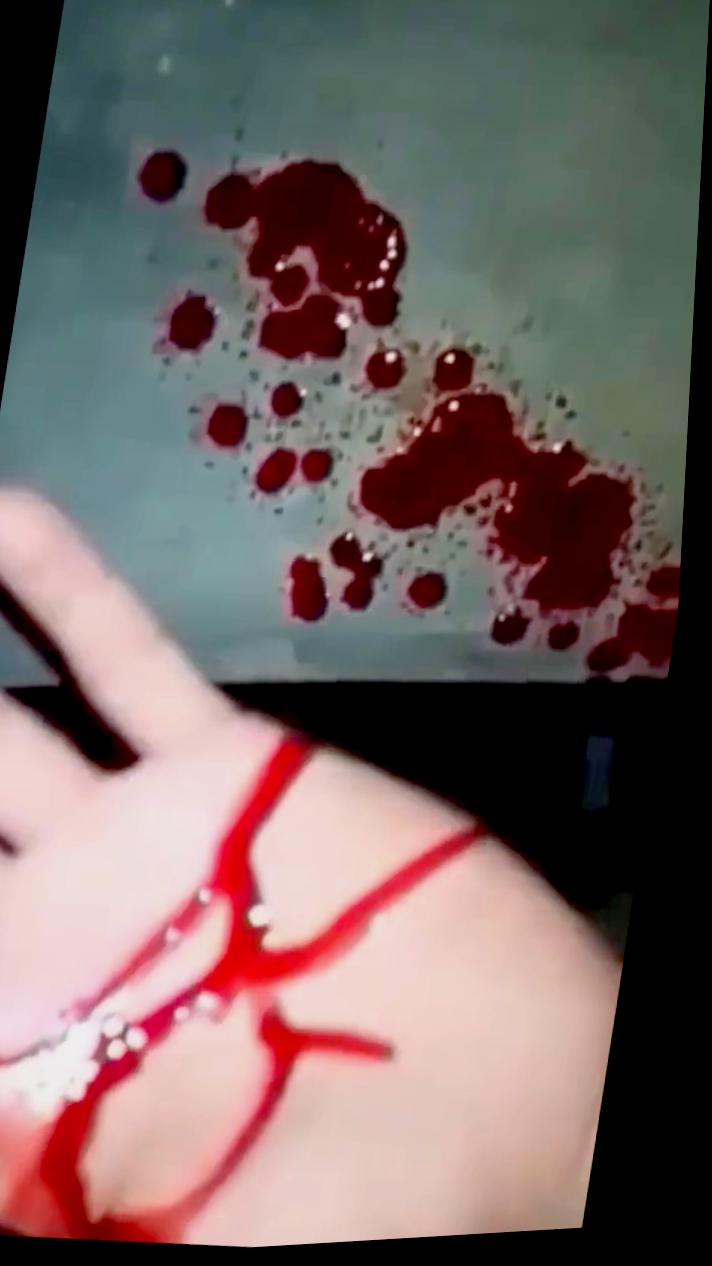Fire: (156, 158, 692, 681), (0, 742, 493, 1247)
